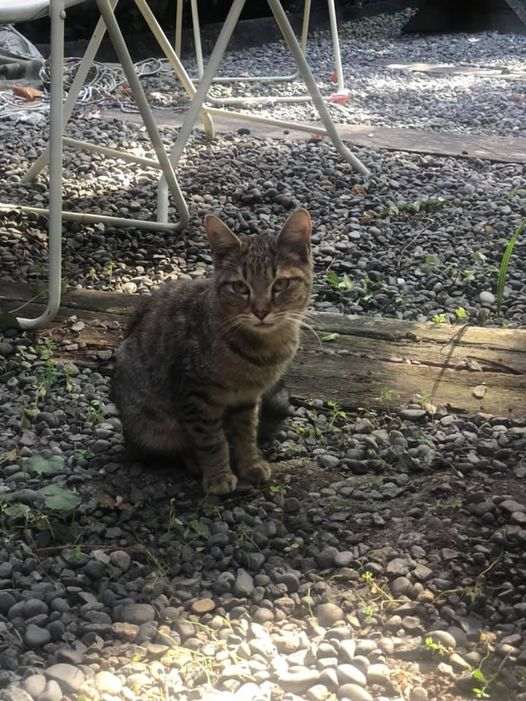cat: (100, 199, 330, 504)
